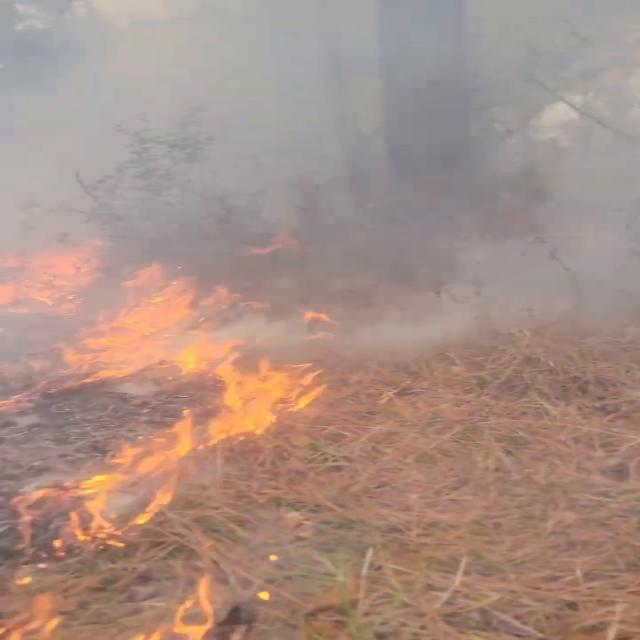Fire: (41, 353, 334, 545), (0, 229, 293, 394)
Smoke: (2, 0, 635, 357)
